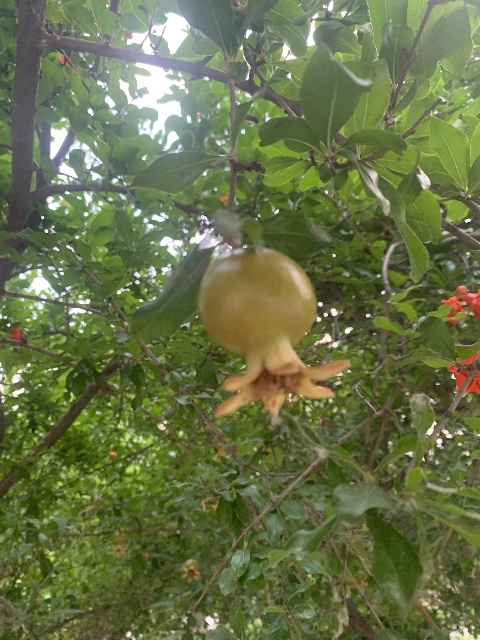bud: (456, 285, 467, 297)
flower: (446, 349, 480, 393), (441, 295, 464, 324), (460, 288, 480, 319)
mid-growth: (198, 248, 351, 417), (180, 559, 200, 582), (109, 530, 127, 553)
